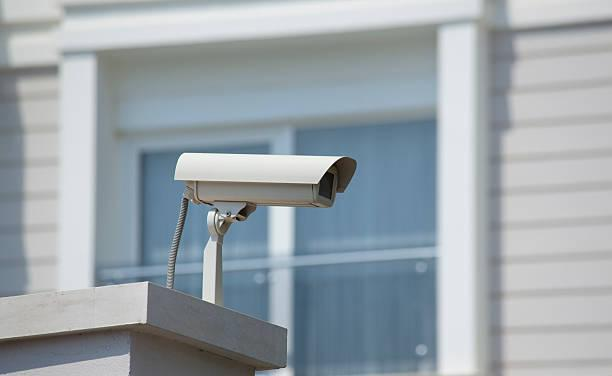camera: (158, 114, 360, 236)
